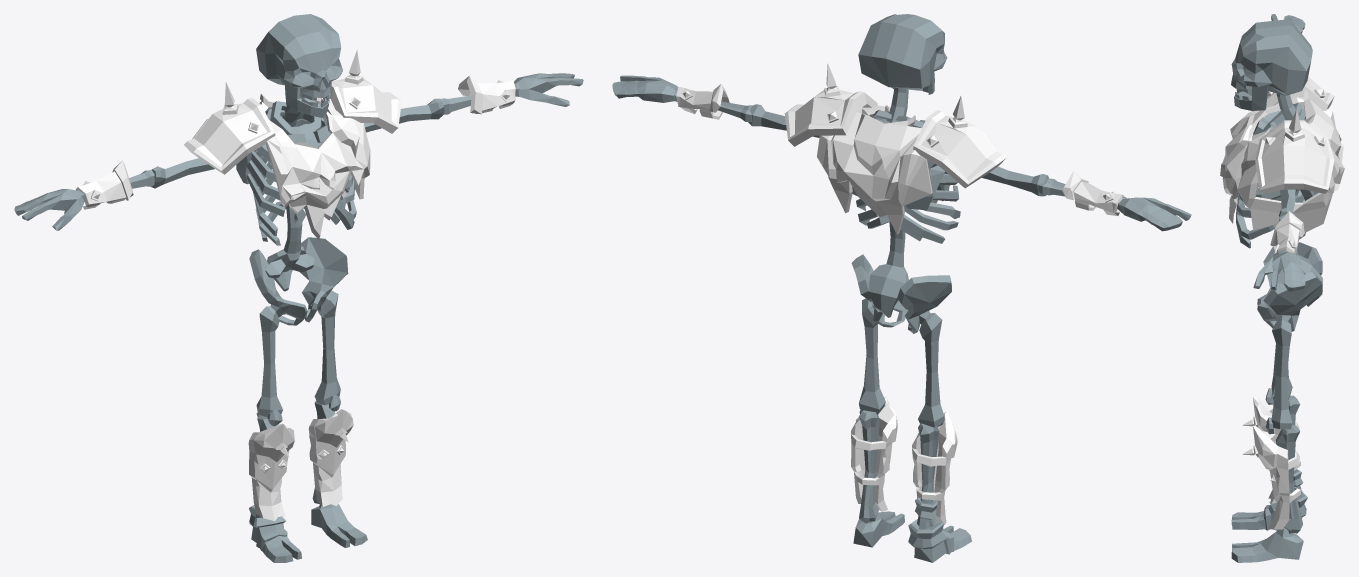
The model's file is skeletonHunterParts.fbx.
3 views of the same model, side by side, from view 1: azimuth 30°, elevation 25°; view 2: azimuth 150°, elevation 25°; view 3: azimuth 270°, elevation 25° (orthographic).
Visible parts, largest first — view 1: Skeleton_warrior_base.005, Skeleton_warrior_base.001, Skeleton_warrior_base.006, Skeleton_warrior_base.002, Skeleton_warrior_base.004, Skeleton_warrior_base.003; view 2: Skeleton_warrior_base.005, Skeleton_warrior_base.006, Skeleton_warrior_base.001, Skeleton_warrior_base.002, Skeleton_warrior_base.004, Skeleton_warrior_base.003; view 3: Skeleton_warrior_base.005, Skeleton_warrior_base.001, Skeleton_warrior_base.002, Skeleton_warrior_base.006, Skeleton_warrior_base.003, Skeleton_warrior_base.004.
Boxes of the visible parts, box(x1,y1,x2,y2) form: Skeleton_warrior_base.005: box(184, 49, 401, 245); Skeleton_warrior_base.001: box(284, 237, 367, 547); Skeleton_warrior_base.006: box(248, 239, 307, 562); Skeleton_warrior_base.002: box(256, 14, 342, 117); Skeleton_warrior_base.004: box(14, 152, 251, 230); Skeleton_warrior_base.003: box(364, 73, 583, 132); Skeleton_warrior_base.005: box(784, 63, 1006, 253); Skeleton_warrior_base.006: box(881, 251, 971, 562); Skeleton_warrior_base.001: box(851, 251, 908, 547); Skeleton_warrior_base.002: box(858, 14, 947, 94); Skeleton_warrior_base.004: box(982, 166, 1191, 231); Skeleton_warrior_base.003: box(612, 75, 819, 137); Skeleton_warrior_base.005: box(1220, 76, 1344, 250); Skeleton_warrior_base.001: box(1231, 250, 1322, 562); Skeleton_warrior_base.002: box(1231, 19, 1312, 111); Skeleton_warrior_base.006: box(1231, 242, 1322, 530); Skeleton_warrior_base.003: box(1253, 189, 1305, 291); Skeleton_warrior_base.004: box(1271, 14, 1305, 33).
Size of the model in its own units: 848 by 747 by 164.
